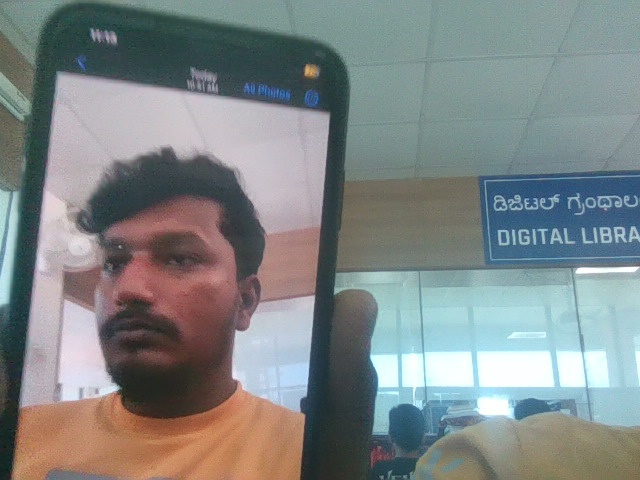fake: (68, 131, 261, 404)
